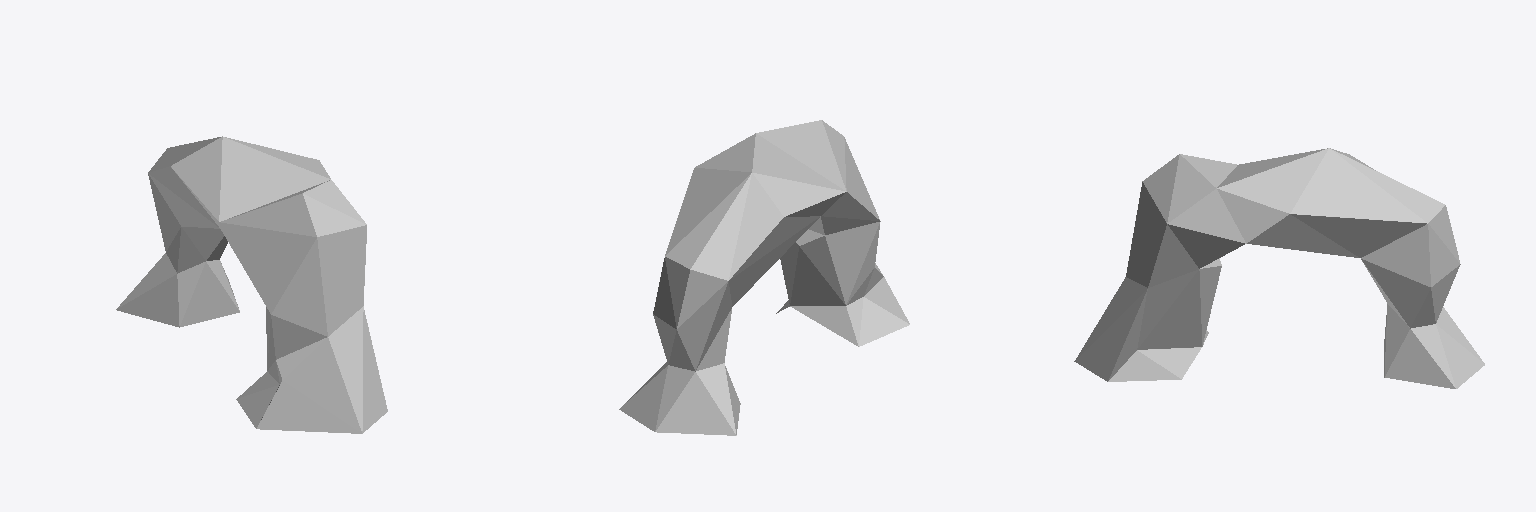
The model's file is rock_009_LOD3.obj.
3 views of the same model, side by side, from view 1: azimuth 30°, elevation 25°; view 2: azimuth 150°, elevation 25°; view 3: azimuth 270°, elevation 25° (orthographic).
Visible parts, largest first — view 1: rock_009_LOD3 rock_009; view 2: rock_009_LOD3 rock_009; view 3: rock_009_LOD3 rock_009.
Boxes of the visible parts, x1=… form: rock_009_LOD3 rock_009: x1=116, y1=136, x2=387, y2=433; rock_009_LOD3 rock_009: x1=619, y1=120, x2=909, y2=435; rock_009_LOD3 rock_009: x1=1074, y1=148, x2=1484, y2=388.
Bounding box in the file's own units: 714 × 993 × 1784.